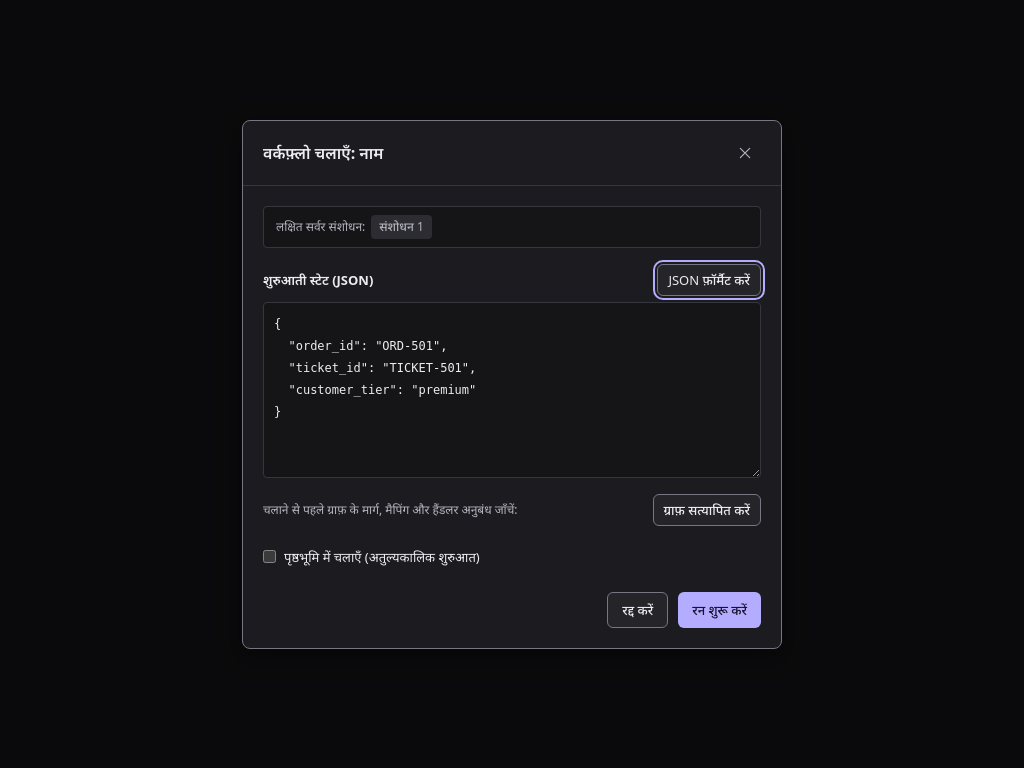
Test case: Hindi UI coverage (local mock API) › translates local JSON-object validation in the run-start dialog
Replace the text in the text box with "[]": (512, 390) x1=263 y1=302 x2=761 y2=478
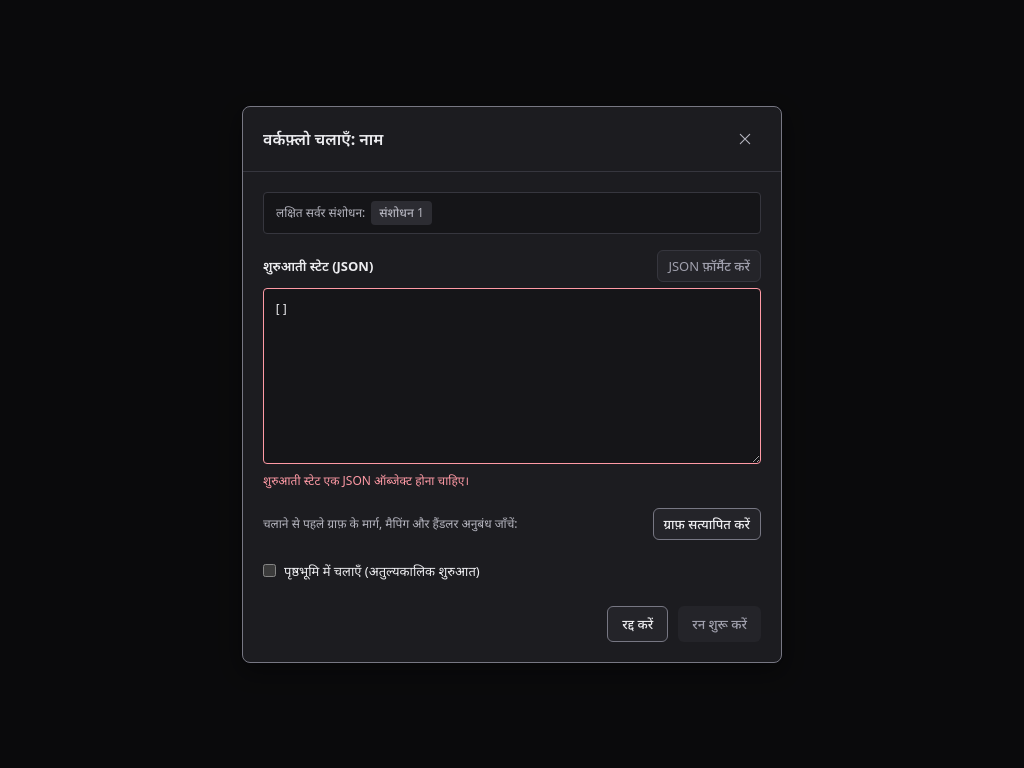
expect the text "शुरुआती स्टेट एक JSON ऑब्जेक्ट होना चाहिए।" is shown: met, box x1=263 y1=472 x2=469 y2=488
